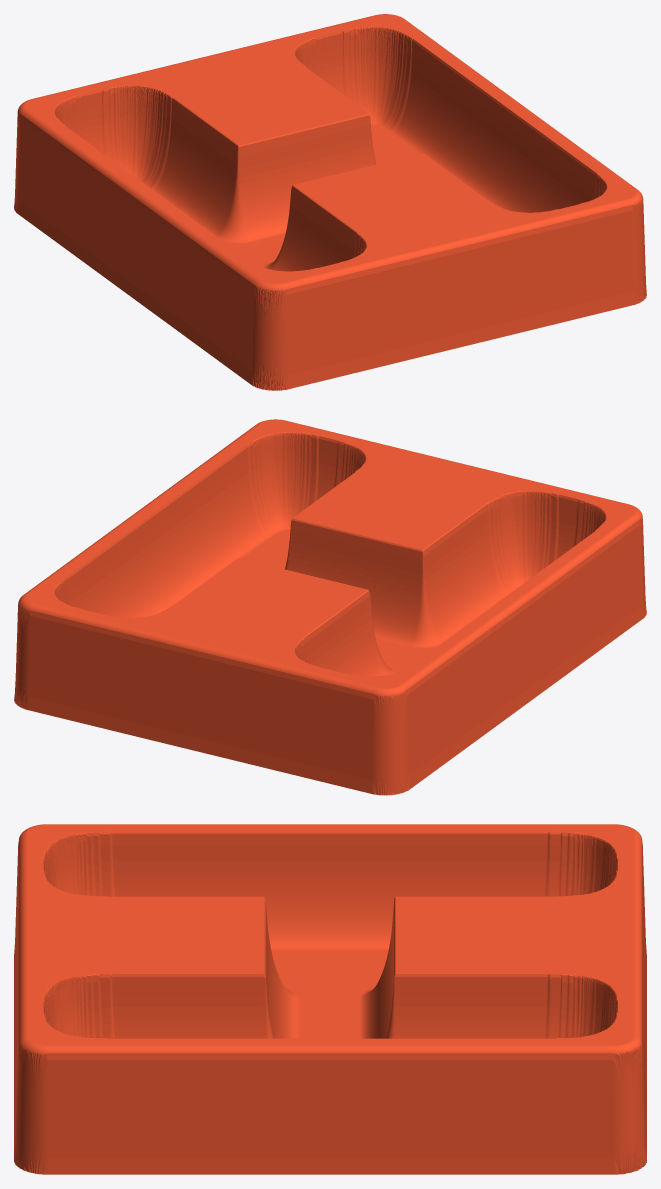
File: mold.glb
The picture shows the model from 3 angles, top to bottom: view 1: azimuth 30°, elevation 25°; view 2: azimuth 150°, elevation 25°; view 3: azimuth 270°, elevation 25°; orthographic projection. The views are drawn at different scales.
Visible parts, largest first — view 1: geometry_0; view 2: geometry_0; view 3: geometry_0.
Boxes of the visible parts, x1=… form: geometry_0: x1=14, y1=14, x2=646, y2=390; geometry_0: x1=14, y1=419, x2=646, y2=795; geometry_0: x1=14, y1=824, x2=646, y2=1174.
Size of the model in its own units: 0.1463 by 0.0365 by 0.1689.
